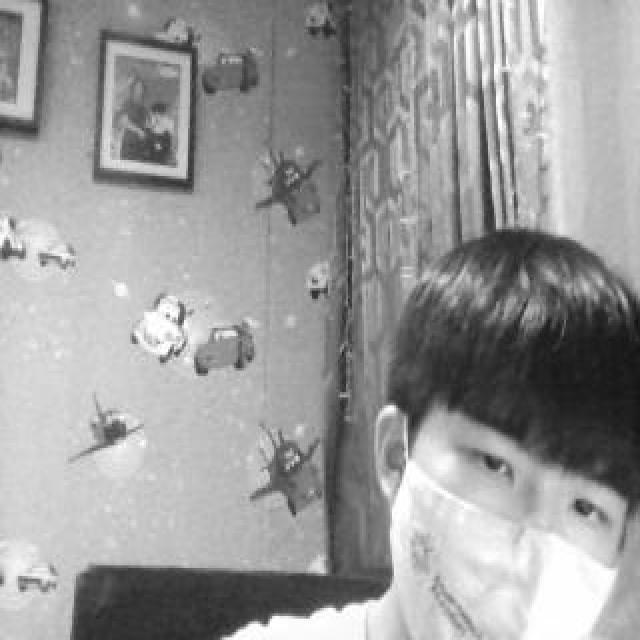Focused: (377, 398, 640, 638)
